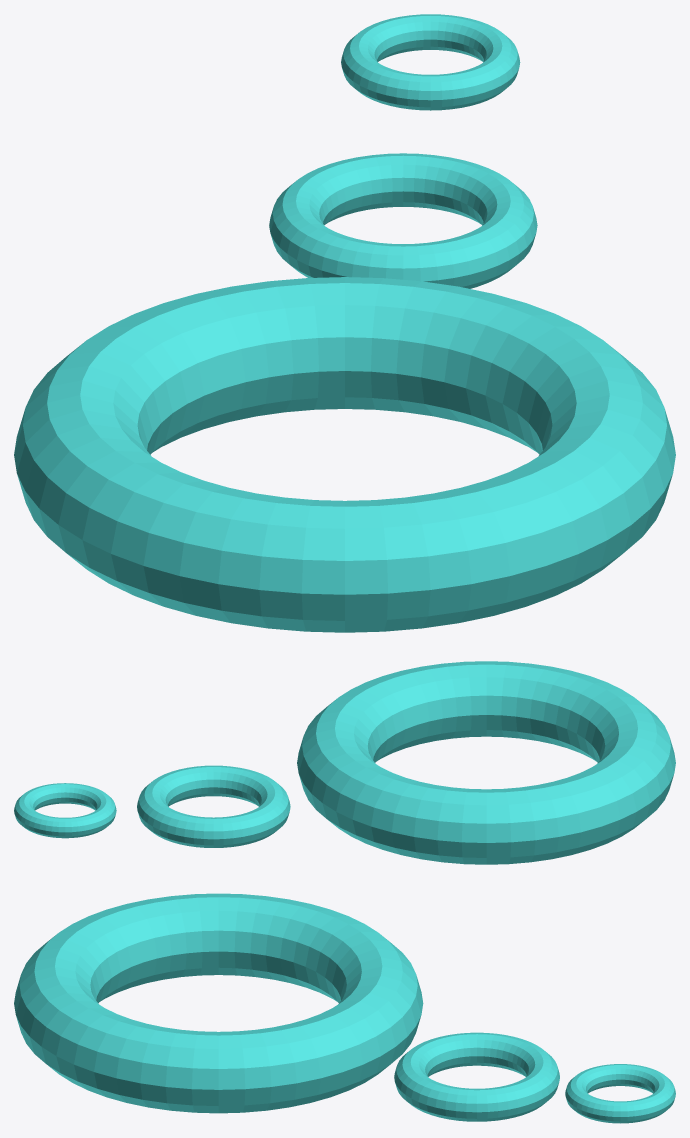
File: ring with history.fbx
The picture shows the model from 3 angles, top to bottom: view 1: azimuth 30°, elevation 25°; view 2: azimuth 150°, elevation 25°; view 3: azimuth 270°, elevation 25°; orthographic projection. The views are drawn at different scales.
Parts seen in each view (by area): view 1: Torus.002; view 2: Torus.002; view 3: Torus.002.
Part boxes in pixels (bbox=[...]): Torus.002: bbox=[14, 14, 675, 632]; Torus.002: bbox=[14, 661, 675, 864]; Torus.002: bbox=[14, 893, 675, 1123].
Size of the model in its own units: 338 by 54.44 by 404.
